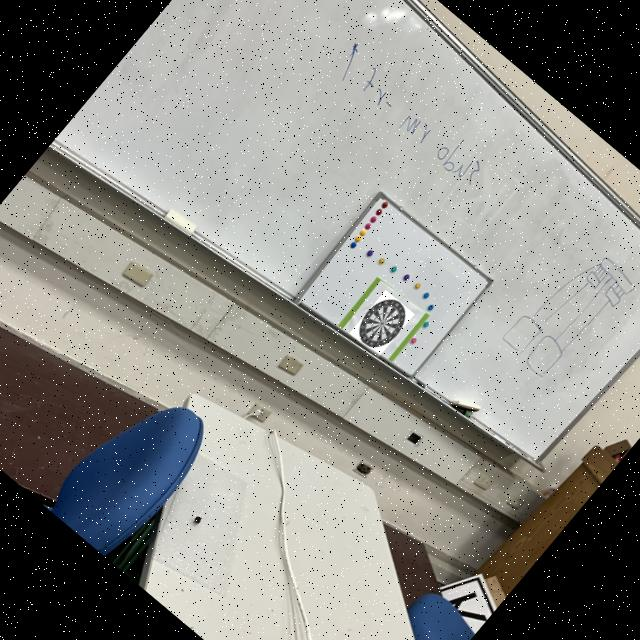archery-targets: (348, 290, 414, 358)
